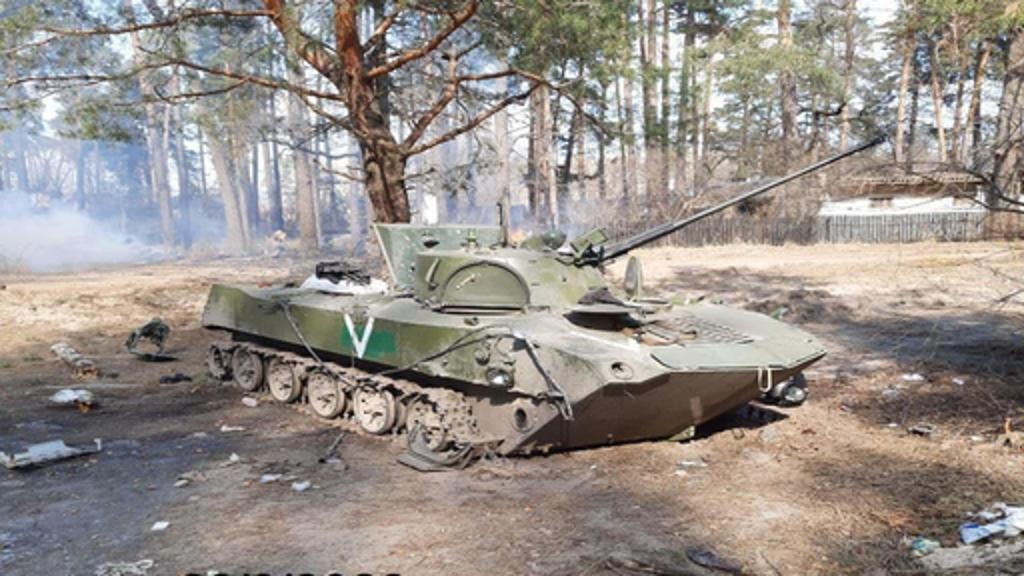APC-IFV: (206, 132, 882, 472)
